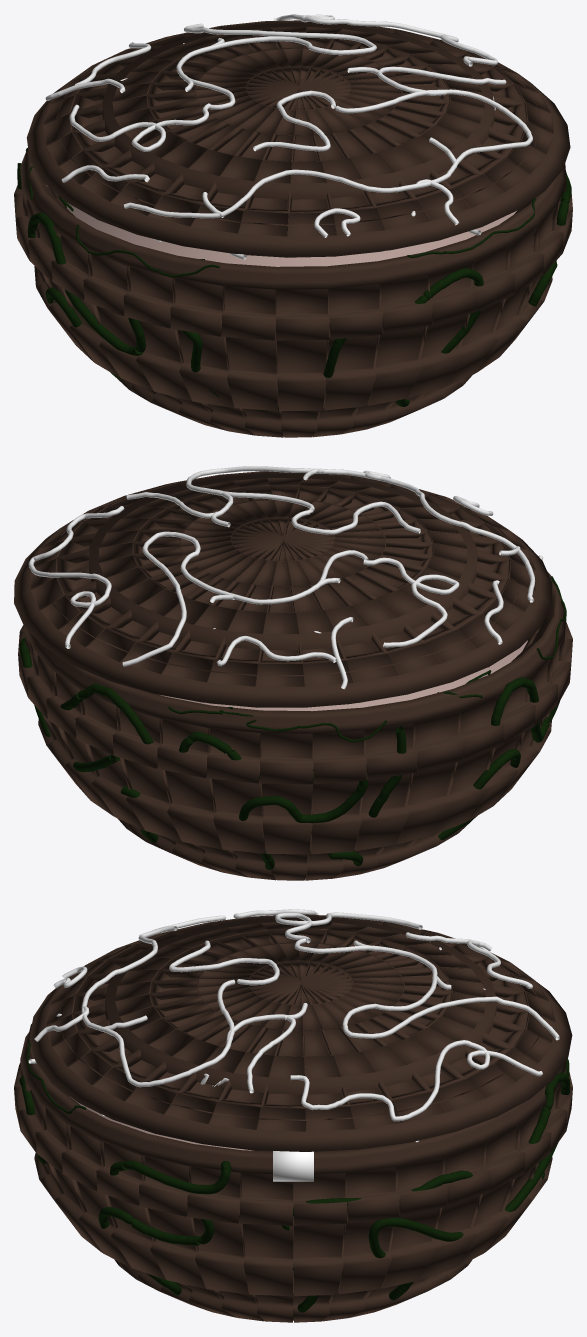
File: music_box_anim.glb
The picture shows the model from 3 angles, top to bottom: view 1: azimuth 30°, elevation 25°; view 2: azimuth 150°, elevation 25°; view 3: azimuth 270°, elevation 25°; orthographic projection.
Visible parts, largest first — view 1: GPencil.001_curve_Layer, Sphere.001, GPencil_curve_Layer, Cylinder.002, GPencil.002_curve_Layer; view 2: GPencil.001_curve_Layer, Sphere.001, GPencil_curve_Layer, Cylinder.002, GPencil.002_curve_Layer; view 3: GPencil.001_curve_Layer, Sphere.001, GPencil_curve_Layer, Cylinder.003.
Boxes of the visible parts, left/top/right/bottom form: GPencil.001_curve_Layer: left=26, top=14, right=570, bottom=259; Sphere.001: left=14, top=147, right=572, bottom=437; GPencil_curve_Layer: left=17, top=163, right=571, bottom=410; Cylinder.002: left=66, top=203, right=517, bottom=266; GPencil.002_curve_Layer: left=25, top=148, right=535, bottom=277; GPencil.001_curve_Layer: left=14, top=466, right=552, bottom=707; Sphere.001: left=18, top=571, right=572, bottom=880; GPencil_curve_Layer: left=19, top=637, right=559, bottom=870; Cylinder.002: left=160, top=640, right=527, bottom=711; GPencil.002_curve_Layer: left=168, top=576, right=566, bottom=742; GPencil.001_curve_Layer: left=28, top=909, right=572, bottom=1151; Sphere.001: left=14, top=1024, right=572, bottom=1322; GPencil_curve_Layer: left=19, top=1058, right=570, bottom=1319; Cylinder.003: left=273, top=1151, right=313, bottom=1181.
Bounding box in the file's own units: 2.26 × 1.42 × 2.24.
